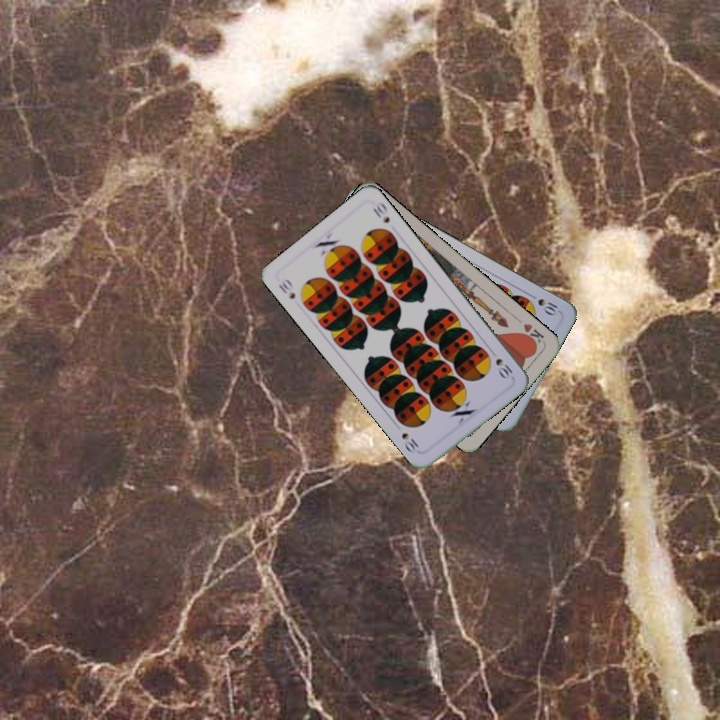HK: (518, 319, 547, 348)
S10: (486, 345, 515, 382), (533, 294, 560, 318), (274, 275, 298, 302)
